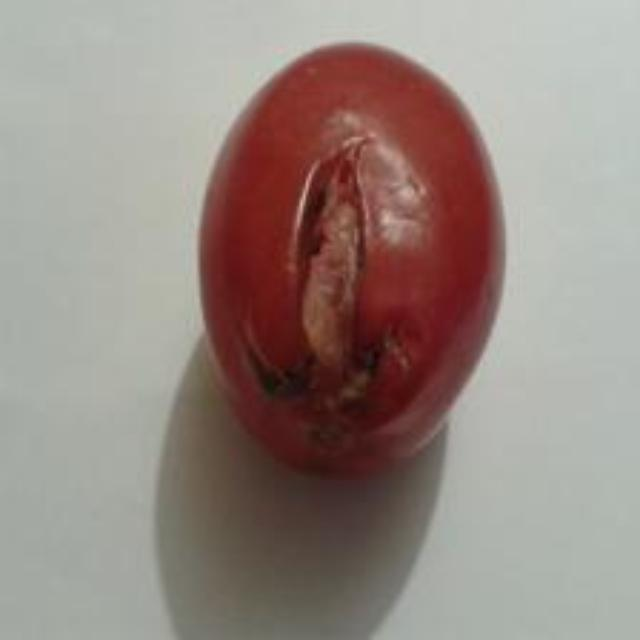defect: (192, 37, 511, 481)
